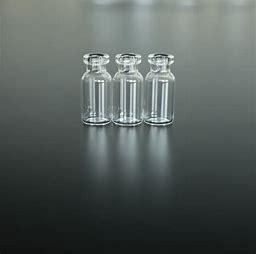Syringe: (76, 41, 112, 130), (142, 51, 181, 130), (112, 48, 144, 130)
